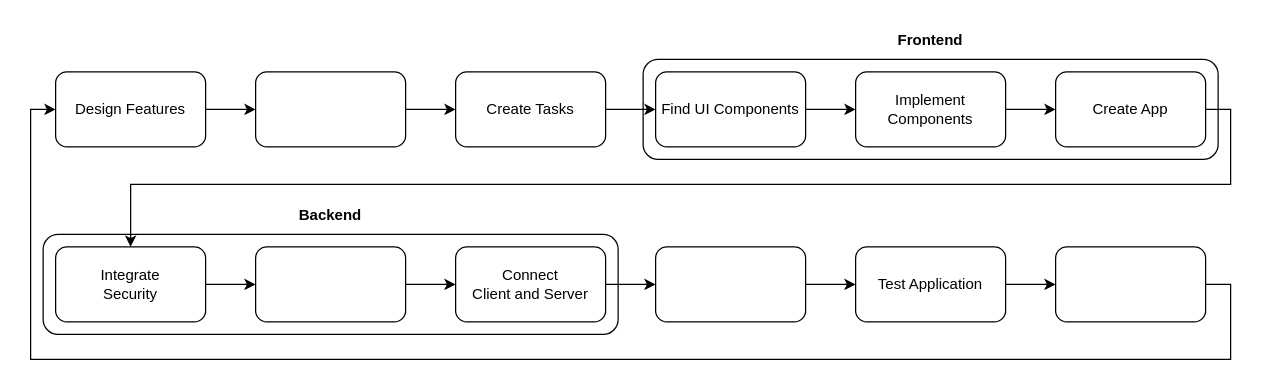
Image size: 1263x391. Some labels were removed from this diagram. The centre of each missing label's shape, as x and y in pixels:
"Discuss issues" belongs at (x=1130, y=284).
"Integrate Database" belongs at (x=330, y=284).
"Prioritize Features" belongs at (x=330, y=109).
"Publish Application" belongs at (x=730, y=284).
